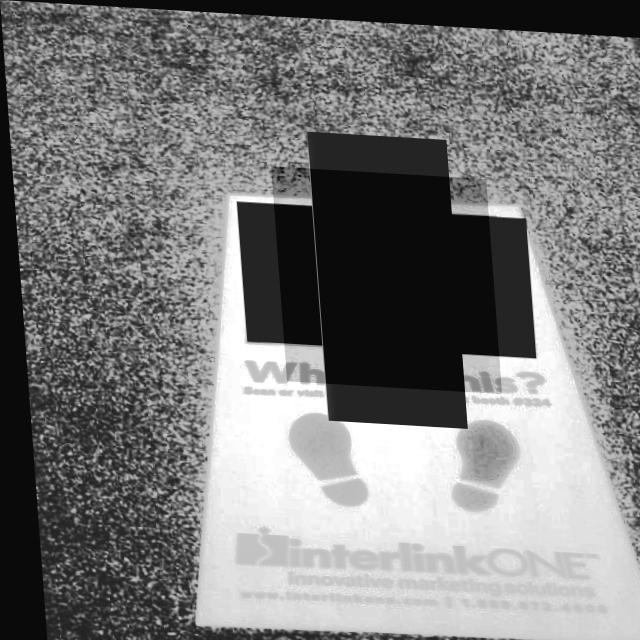qr_code: (269, 163, 496, 388)
